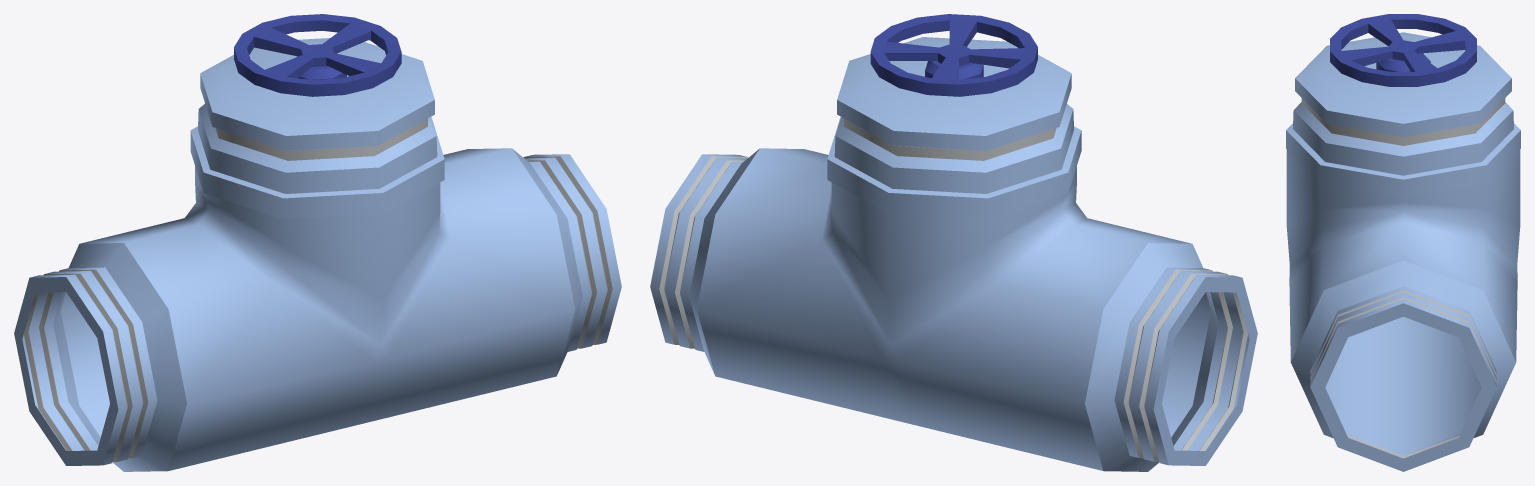
The model's file is PipeSmall_Valve.fbx.
The picture shows the model from 3 angles, left to right: view 1: azimuth 30°, elevation 25°; view 2: azimuth 150°, elevation 25°; view 3: azimuth 270°, elevation 25°; orthographic projection. The views are drawn at different scales.
Parts seen in each view (by area): view 1: PipeSmall_Valve.001; view 2: PipeSmall_Valve.001; view 3: PipeSmall_Valve.001.
Boxes of the visible parts, left/top/right/bottom form: PipeSmall_Valve.001: left=14, top=14, right=621, bottom=471; PipeSmall_Valve.001: left=650, top=14, right=1257, bottom=471; PipeSmall_Valve.001: left=1286, top=14, right=1520, bottom=471.
Size of the model in its own units: 0.3045 by 0.2169 by 0.1378.
